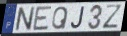3: (87, 4, 103, 32)
E: (32, 5, 53, 32)
J: (70, 6, 86, 30)
N: (14, 6, 36, 31)
Q: (51, 5, 69, 31)
Z: (101, 4, 124, 31)
